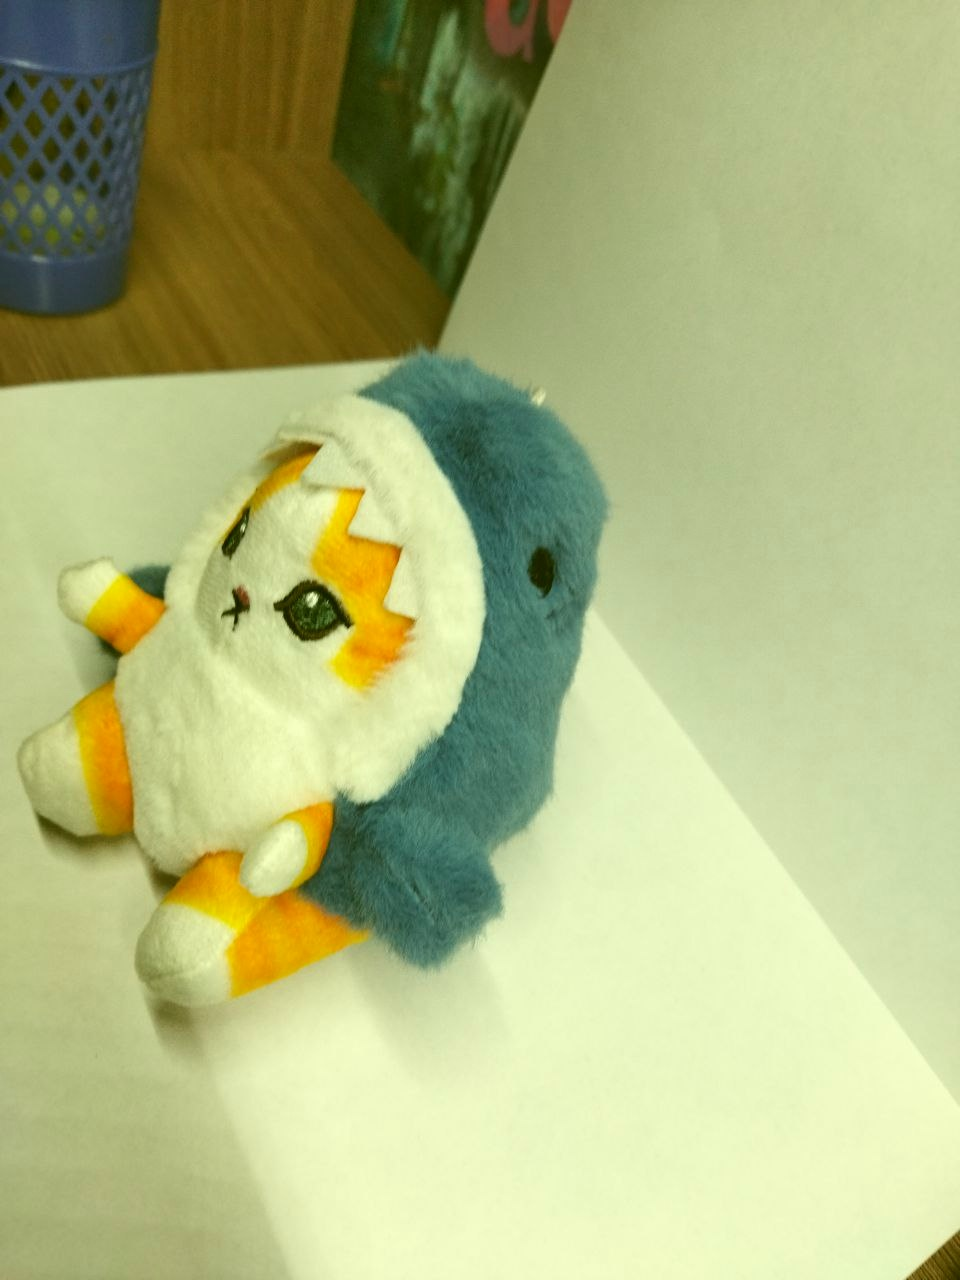Snark Cat: (1, 356, 613, 1012)
